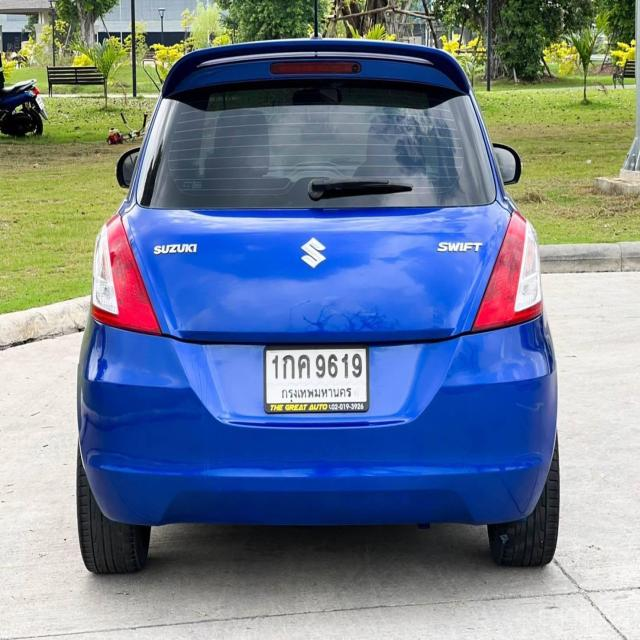license_plate: (265, 342, 369, 410)
